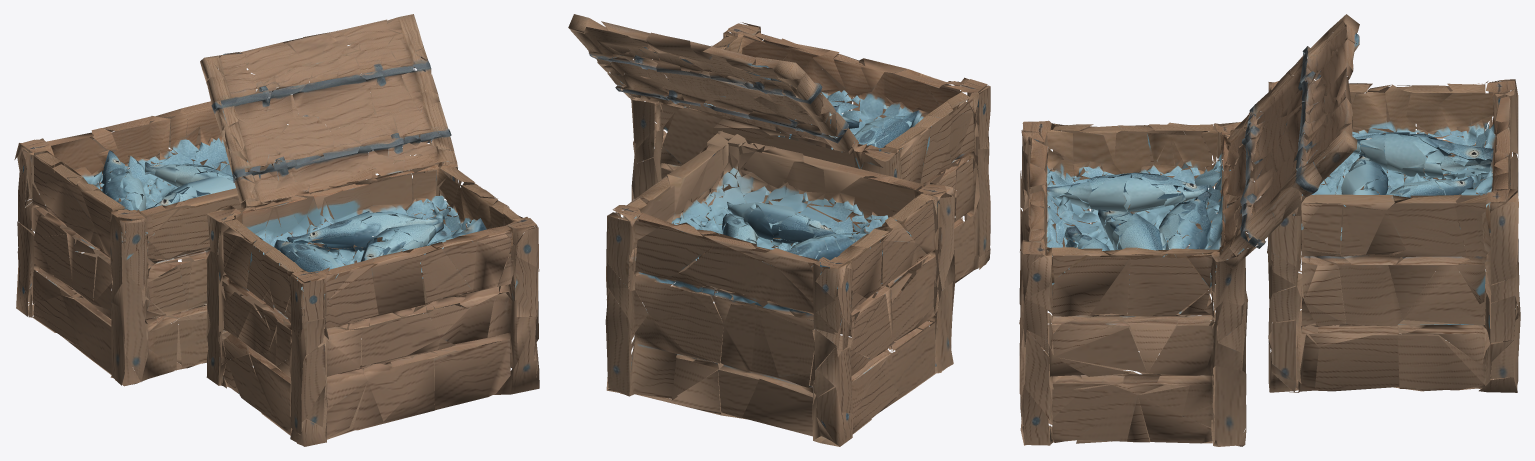
File: casse_pesce.glb
3 views of the same model, side by side, from view 1: azimuth 30°, elevation 25°; view 2: azimuth 150°, elevation 25°; view 3: azimuth 270°, elevation 25° (orthographic). The views are drawn at different scales.
Visible parts, largest first — view 1: Mesh_0; view 2: Mesh_0; view 3: Mesh_0.
Boxes of the visible parts, x1,y1,x2,y2 form: Mesh_0: (14,14,539,446); Mesh_0: (568,14,990,446); Mesh_0: (1019,14,1520,446).
Bounding box in the file's own units: 0.6773 × 0.5532 × 0.78.
Materials: 1 (1 with a texture image).
